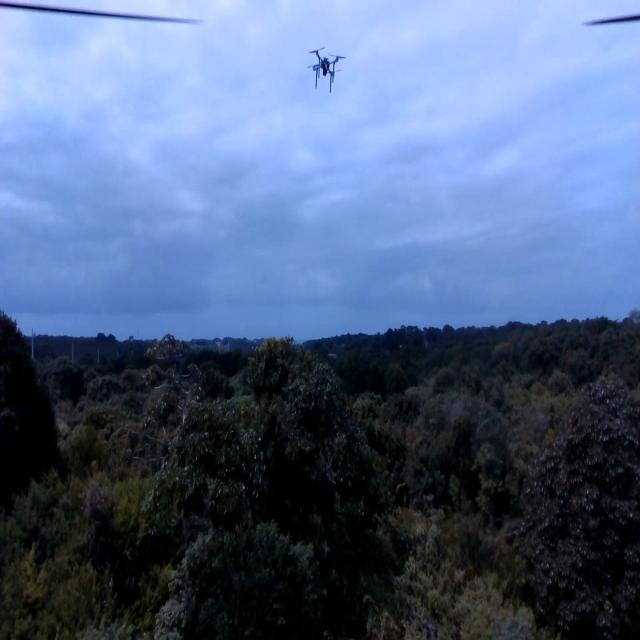-uav-: (304, 38, 348, 98)
